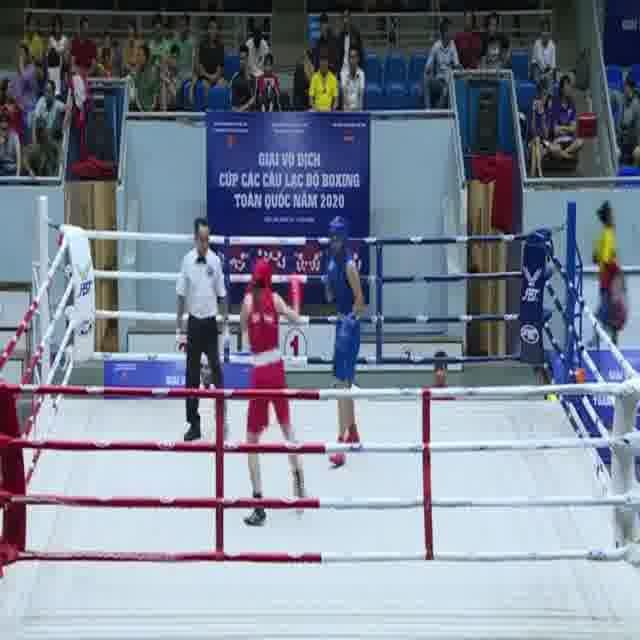blue-player: (315, 212, 365, 470)
red-player: (236, 255, 309, 530)
referee: (174, 215, 230, 448)
